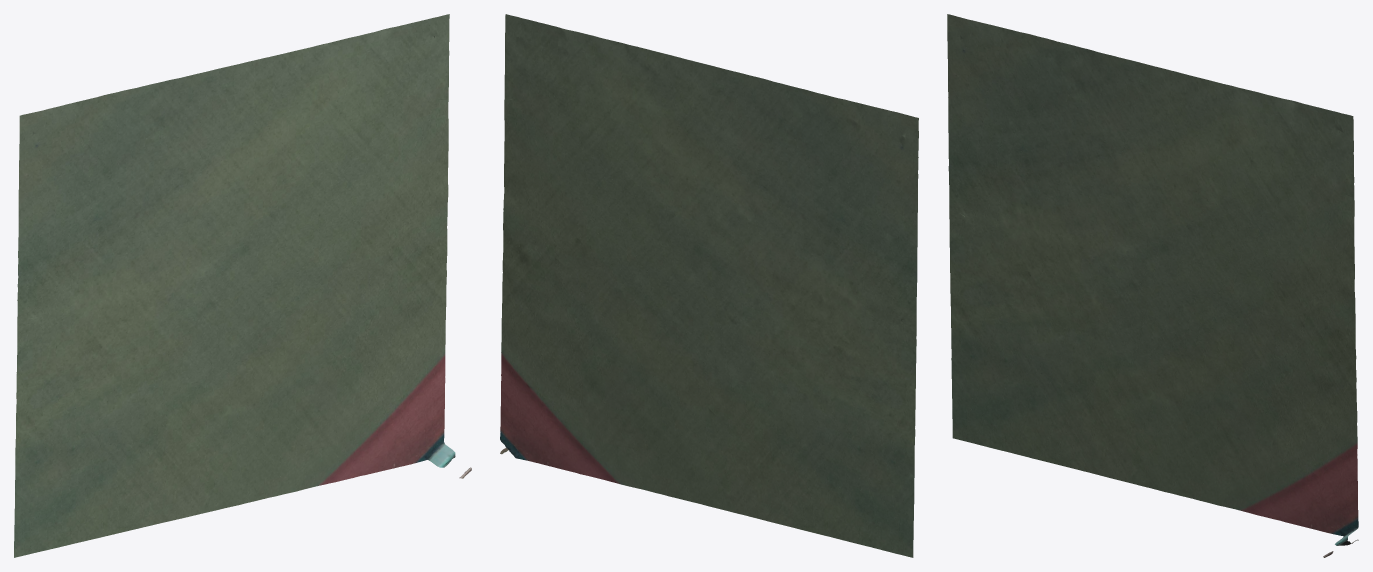
The model's file is Tile_+017_+005.fbx.
3 renders of one model, left to right at view 1: azimuth 30°, elevation 25°; view 2: azimuth 150°, elevation 25°; view 3: azimuth 330°, elevation 25°, orthographic. The views are drawn at different scales.
Parts seen in each view (by area): view 1: DefaultName; view 2: DefaultName; view 3: DefaultName.
Boxes of the visible parts, left/top/right/bottom form: DefaultName: left=14, top=14, right=471, bottom=557; DefaultName: left=500, top=14, right=918, bottom=557; DefaultName: left=947, top=14, right=1358, bottom=557.
Bounding box in the file's own units: 22.54 × 22.54 × 2.87.
